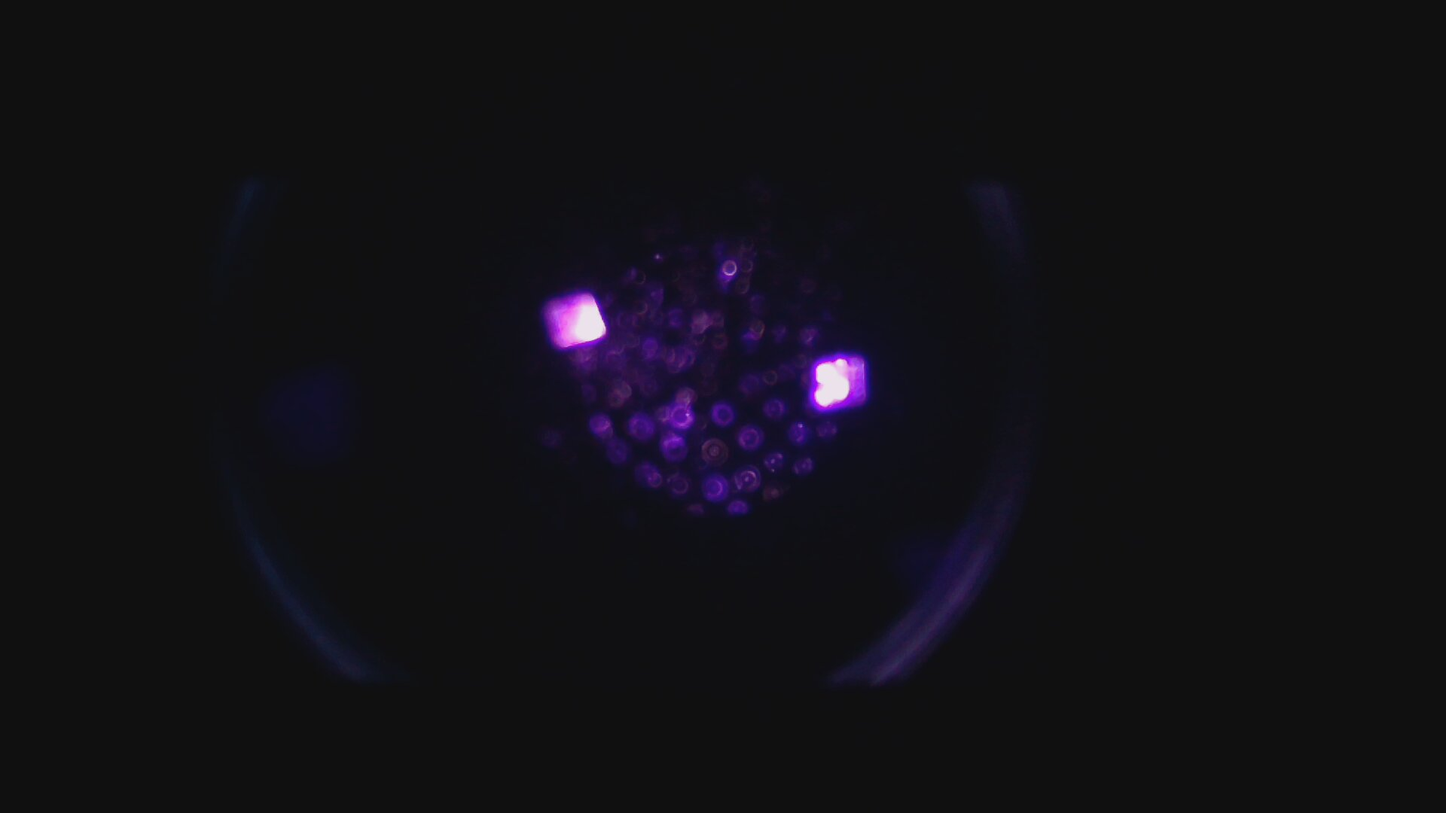plastic: (539, 287, 608, 352), (808, 352, 870, 411)
